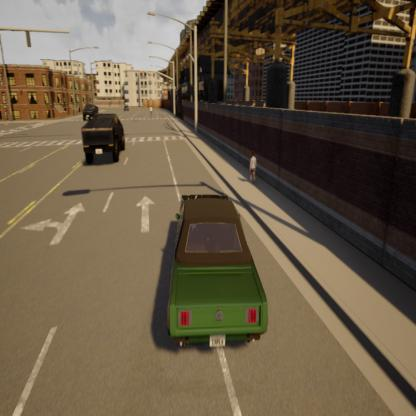Cars: (131, 174, 280, 380), (78, 104, 128, 188), (73, 83, 103, 128)
Pedestrian: (244, 142, 262, 209)
